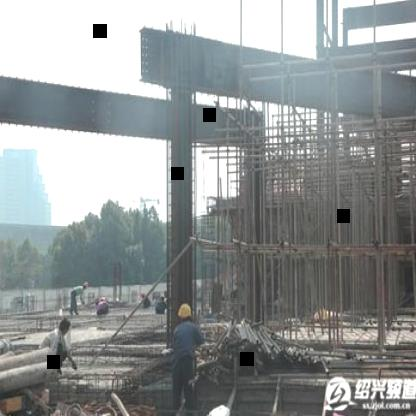helmet: (176, 300, 193, 328)
